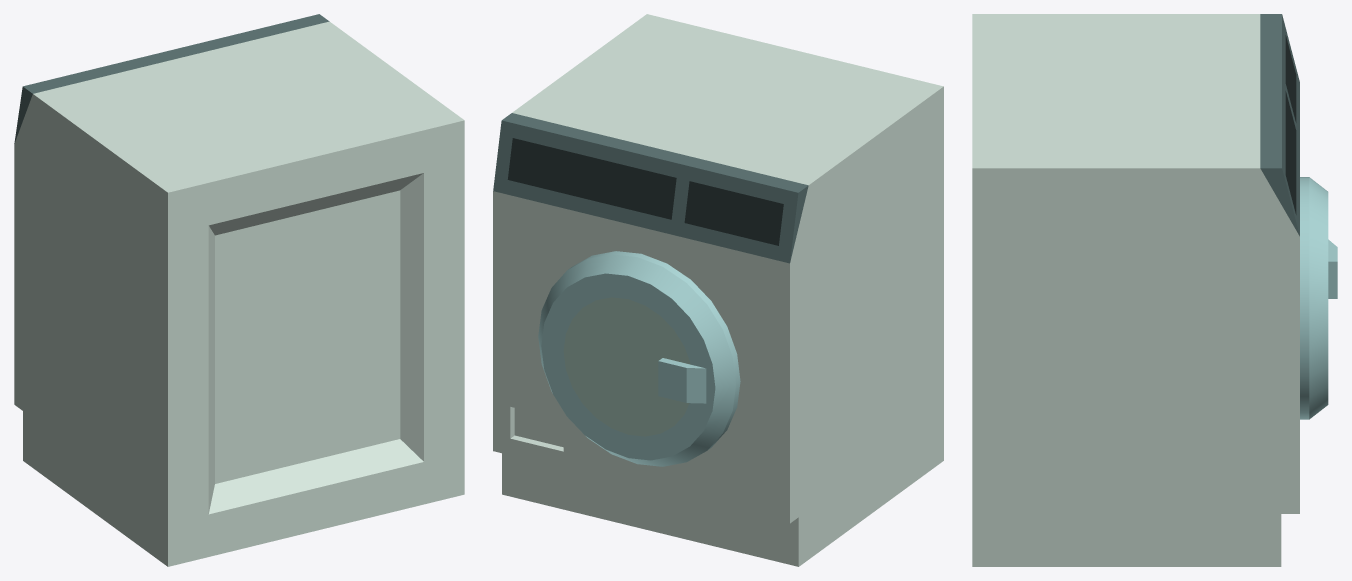
File: washer.glb
3 views of the same model, side by side, from view 1: azimuth 30°, elevation 25°; view 2: azimuth 150°, elevation 25°; view 3: azimuth 270°, elevation 25° (orthographic). The views are drawn at different scales.
Size of the model in its own units: 3.9 by 4.7 by 3.9.
